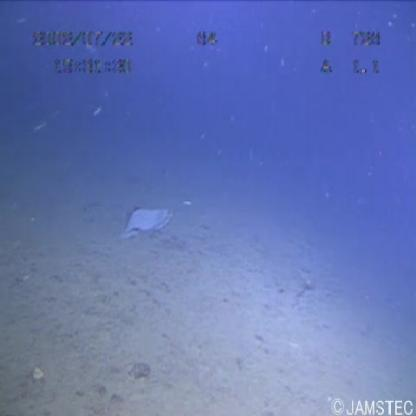Rác: (111, 196, 189, 244)
